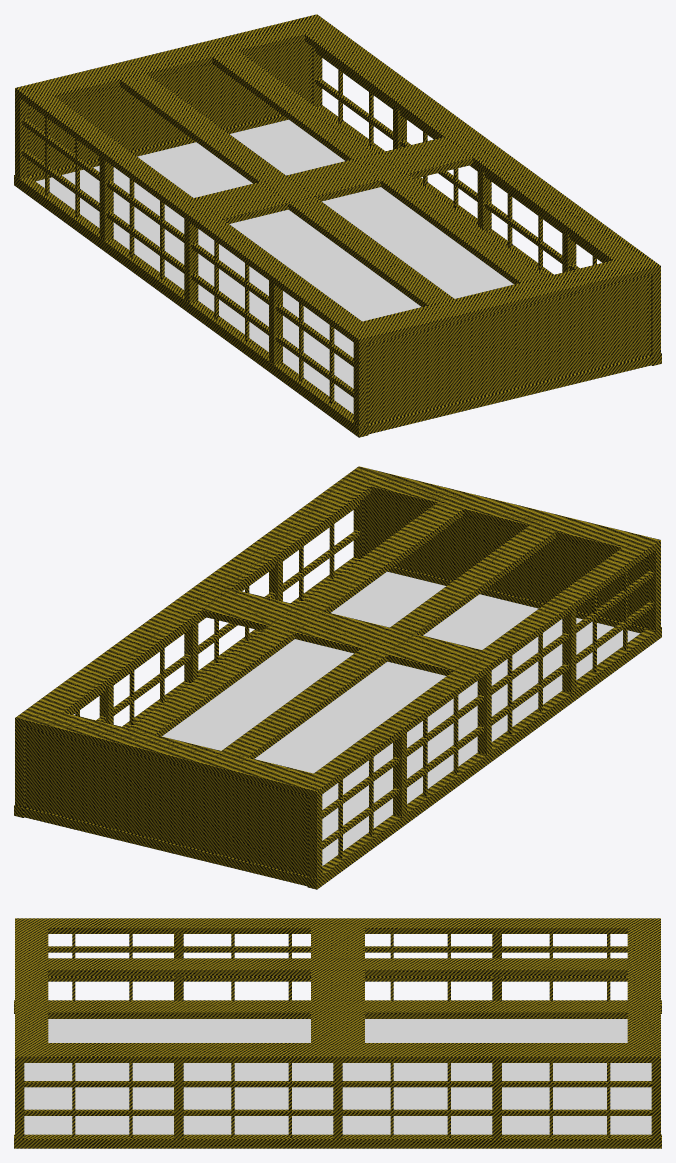
3 views of the same model, one above another, from view 1: azimuth 30°, elevation 25°; view 2: azimuth 150°, elevation 25°; view 3: azimuth 270°, elevation 25° (orthographic). The views are drawn at different scales.
Visible parts, largest first — view 1: TestChamber; view 2: TestChamber; view 3: TestChamber.
Boxes of the visible parts, x1=… form: TestChamber: x1=14, y1=14, x2=661, y2=437; TestChamber: x1=14, y1=466, x2=661, y2=889; TestChamber: x1=14, y1=918, x2=661, y2=1148.
Size of the model in its own units: 20.66 by 6.35 by 40.71.
Materials: 11 (1 with a texture image).
